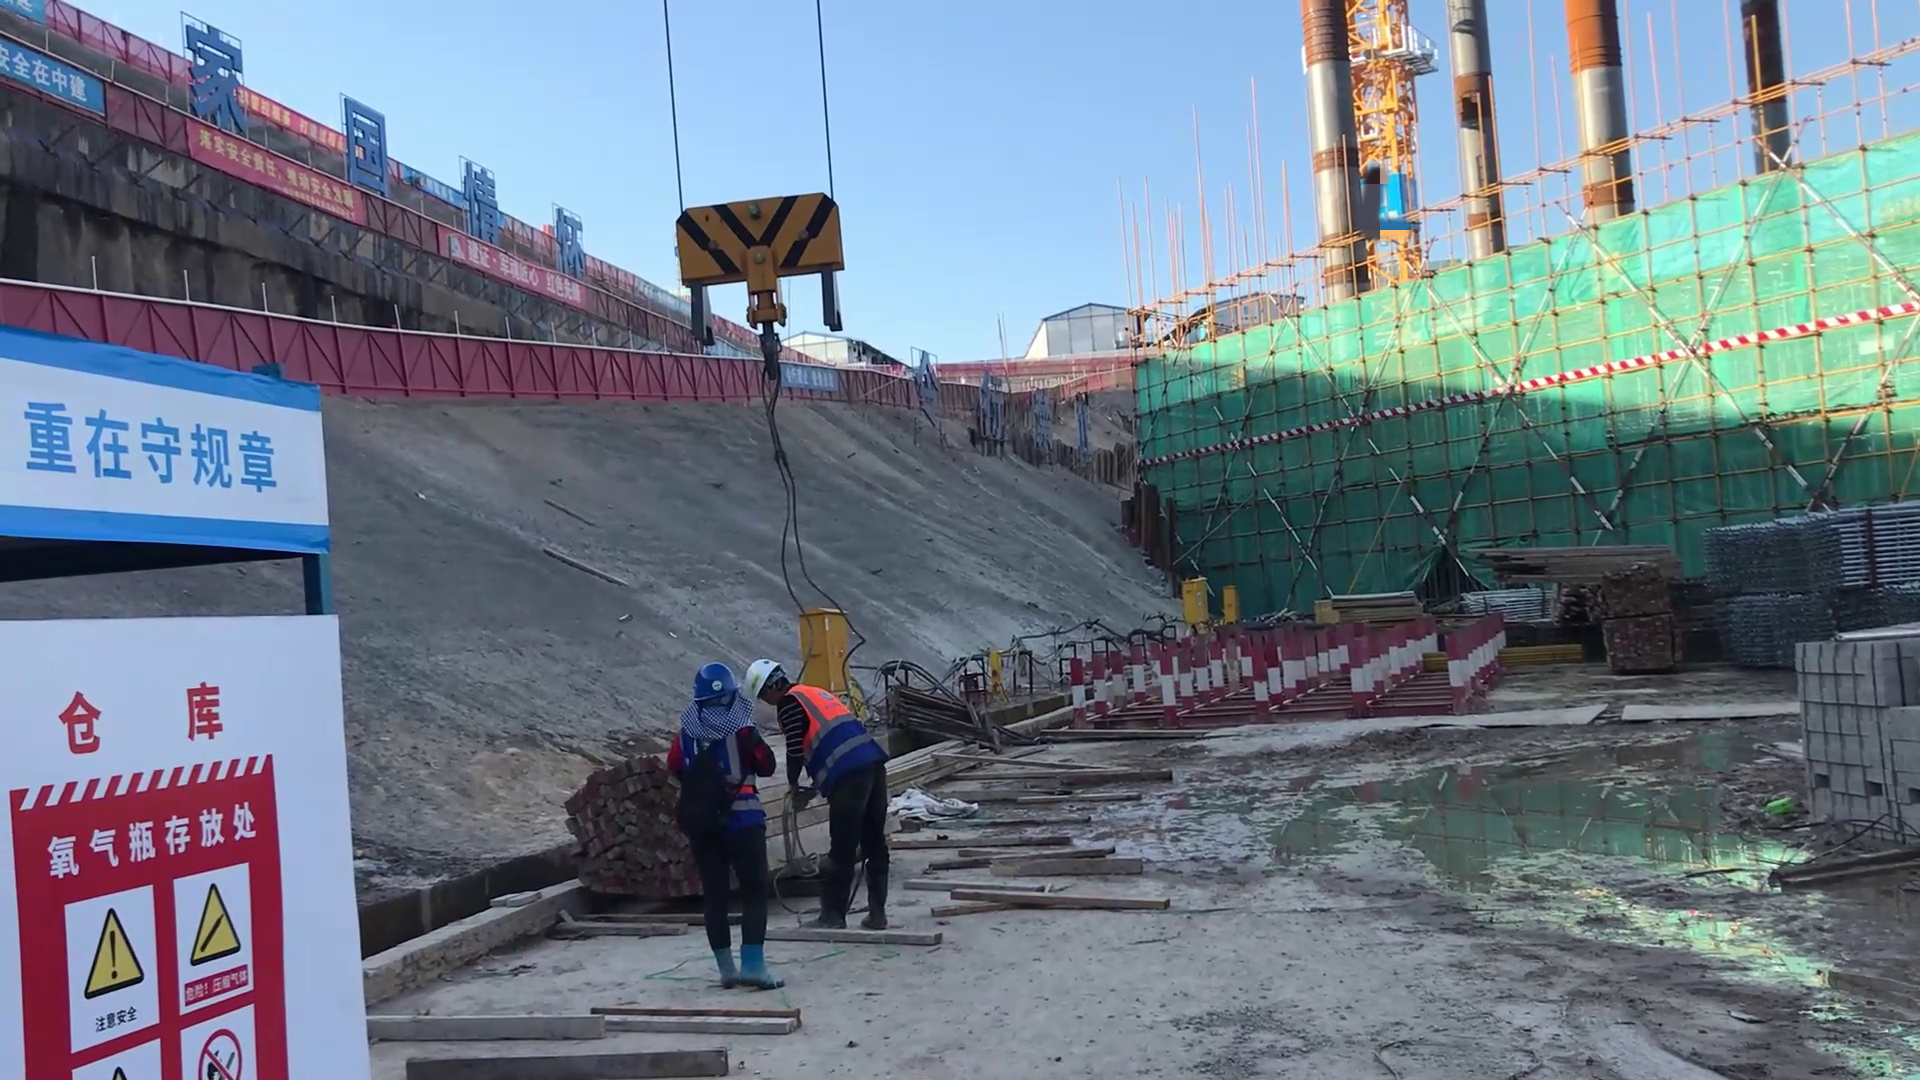brick: (1774, 629, 1920, 838)
ebox: (789, 587, 860, 698), (1181, 576, 1208, 624), (1223, 585, 1246, 627)
fence: (304, 311, 573, 404), (570, 345, 766, 405)
helmet: (684, 658, 737, 723), (744, 657, 781, 702)
hook: (673, 187, 848, 356)
person: (745, 651, 909, 929), (674, 657, 782, 994)
scaffold: (1710, 513, 1920, 595)
slogan: (28, 763, 321, 1080), (15, 387, 293, 519), (199, 112, 419, 234), (1, 22, 103, 115)
vest: (783, 683, 858, 758)
wood: (547, 738, 688, 923), (1448, 549, 1675, 604)
